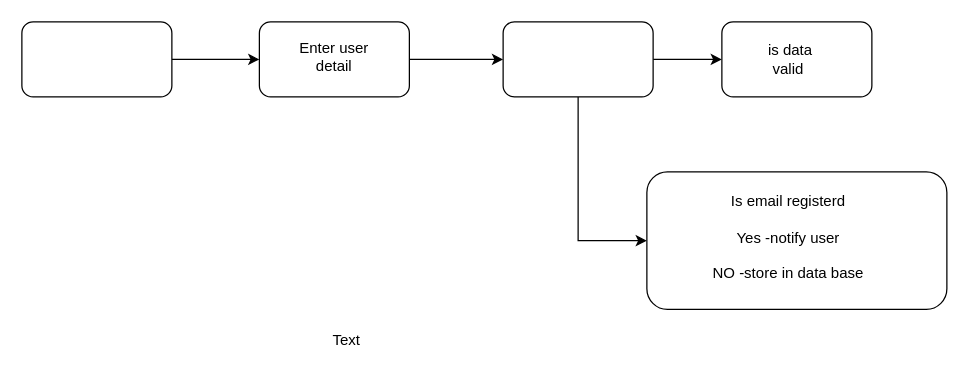
The diagram is 969 pixels wide and 381 high, and some of its shapes have lost their labels. The shapes that lost their labels are listed below. From the top down, each one's centre as x and y in pixels, then its label:
the point at 96,59: Start
the point at 577,59: Validate data
